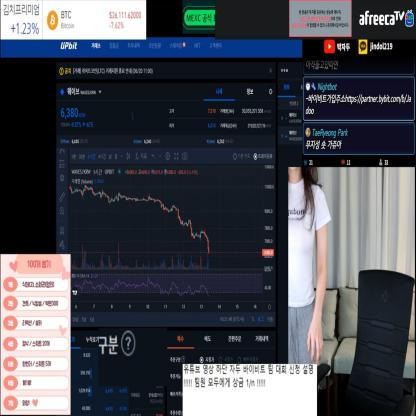streamer: (288, 168, 332, 363)
